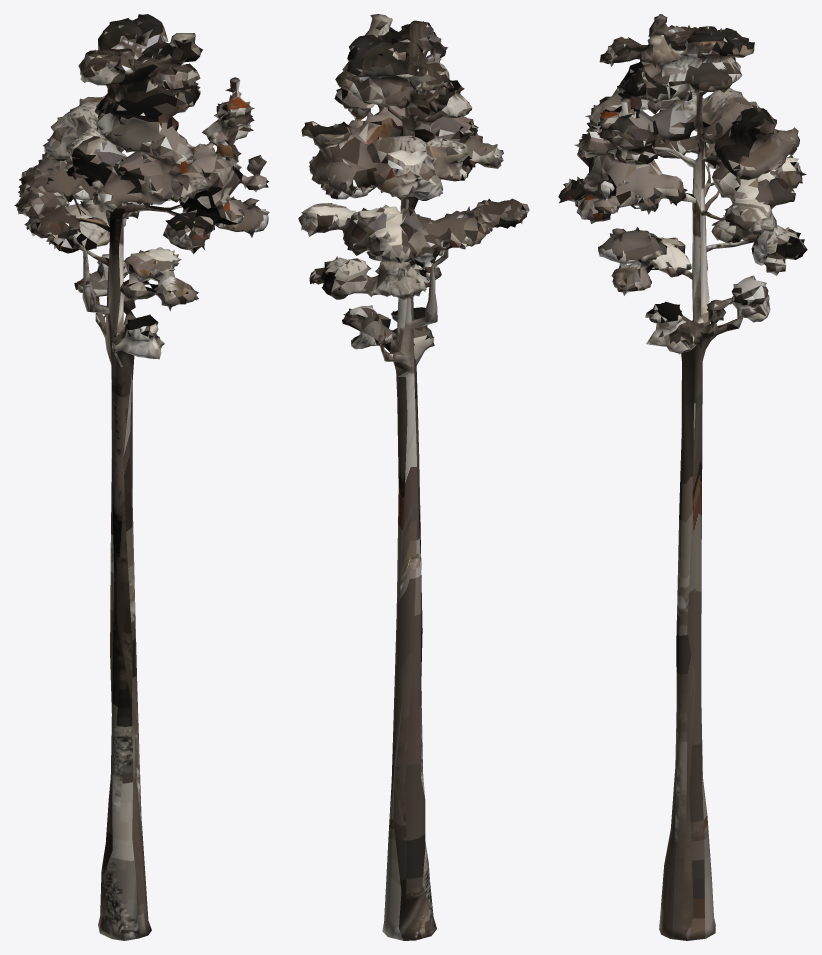
The model's file is toog.fbx.
The picture shows the model from 3 angles, left to right: view 1: azimuth 30°, elevation 25°; view 2: azimuth 150°, elevation 25°; view 3: azimuth 270°, elevation 25°; orthographic projection. The views are drawn at different scales.
Parts seen in each view (by area): view 1: model; view 2: model; view 3: model.
Part boxes in pixels (left/top/right/bottom): model: left=14, top=14, right=269, bottom=940; model: left=298, top=14, right=529, bottom=940; model: left=558, top=14, right=807, bottom=940.
Bounding box in the file's own units: 48.99 × 189 × 46.86.
